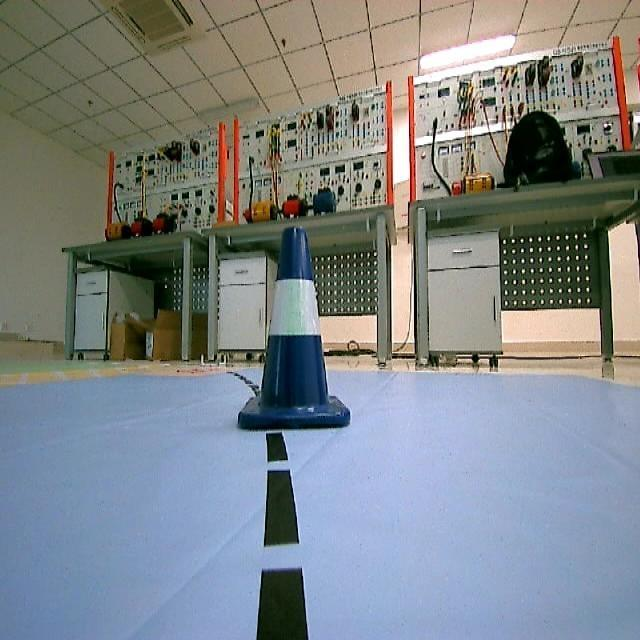obstacle: (228, 219, 357, 436)
